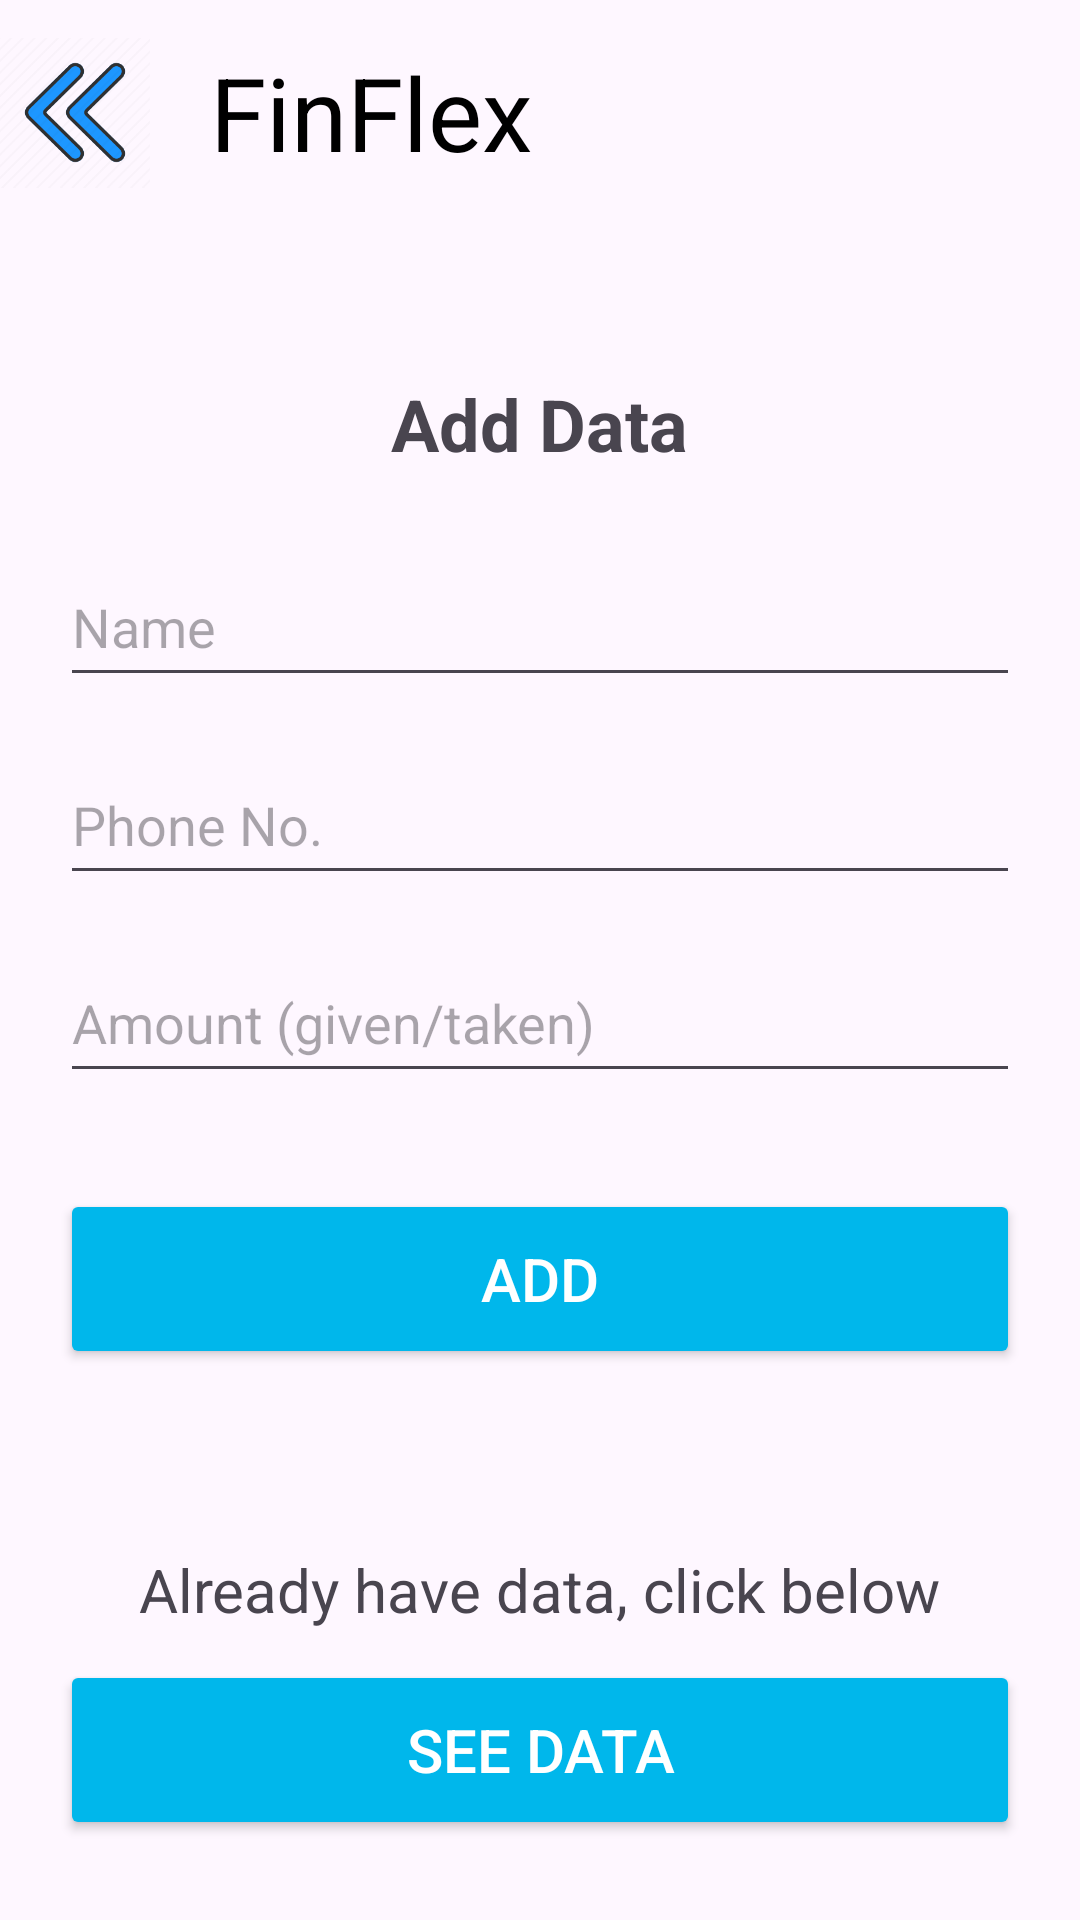

Icons on this 1080 x 1920 Android screen, each with its box as (x1, y1, x2, y2):
backbtn: (24, 63, 126, 162)
